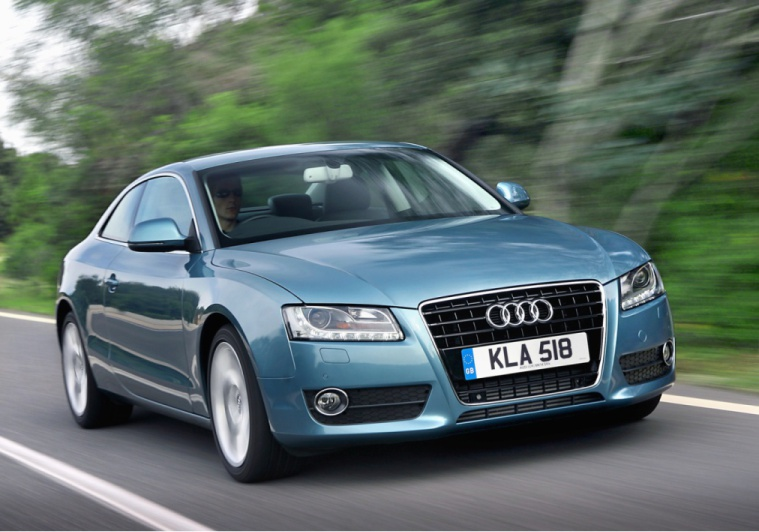audi: (479, 296, 562, 333)
